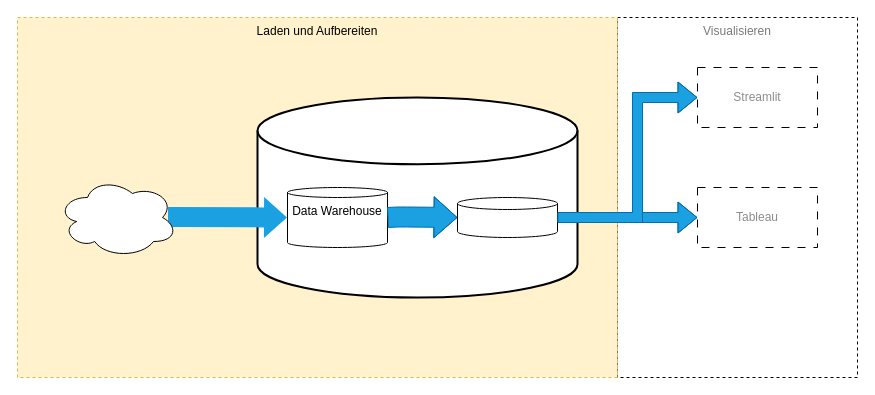
The diagram is 875 pixels wide and 395 high, and some of its shapes have lost their labels. Each missing label, with the box of its shape:
Datamart: (456, 196, 558, 238)
Datenquelle: (56, 176, 178, 258)
Snowflake: (256, 96, 578, 298)
